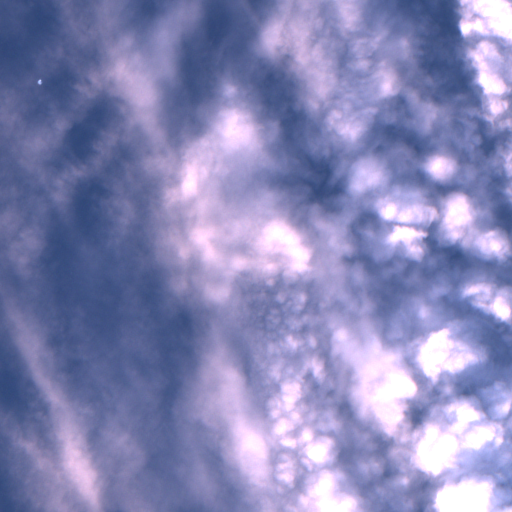Iceberg: (37, 79, 41, 84)
